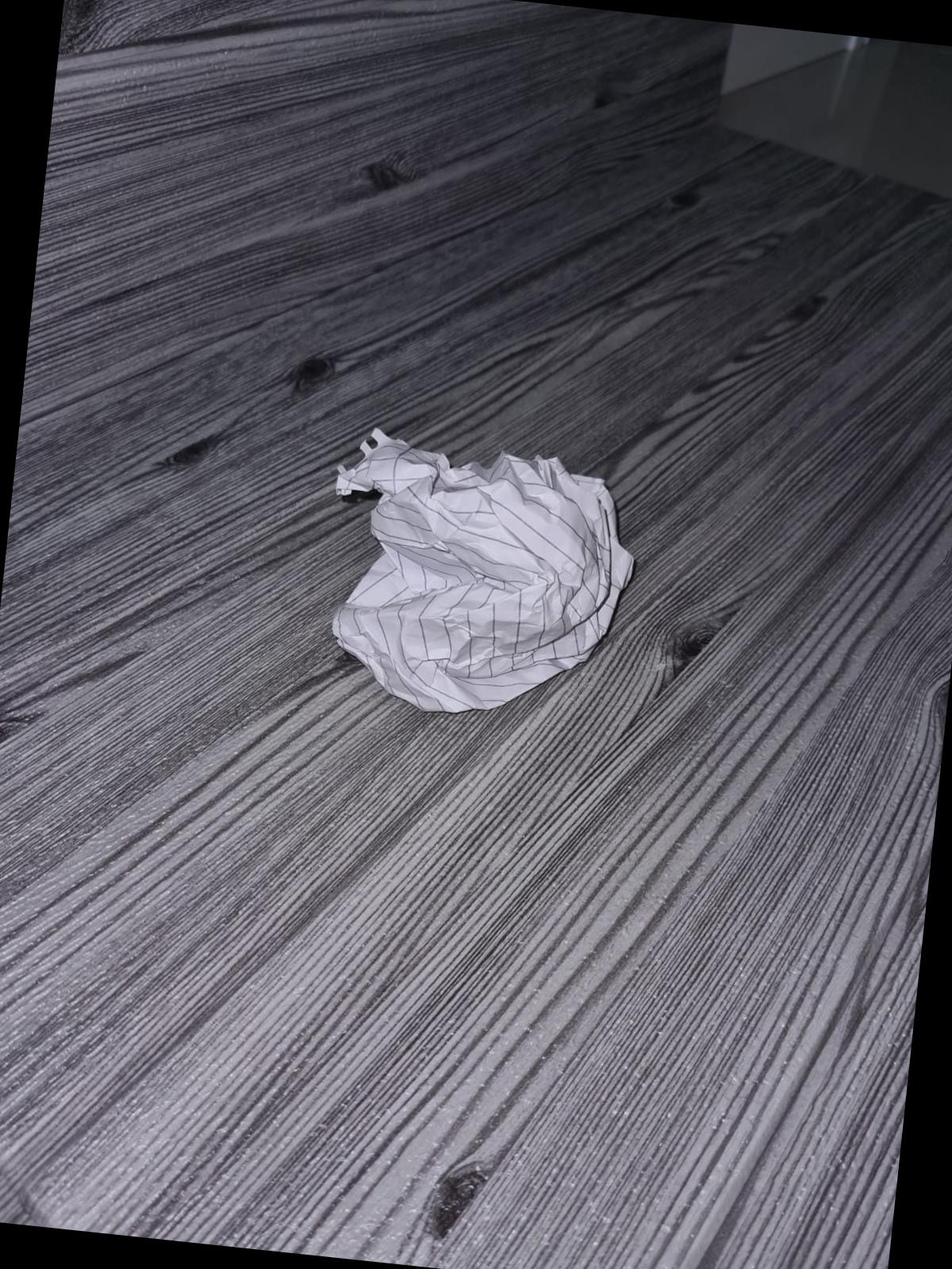Kertas: (328, 426, 621, 715)
